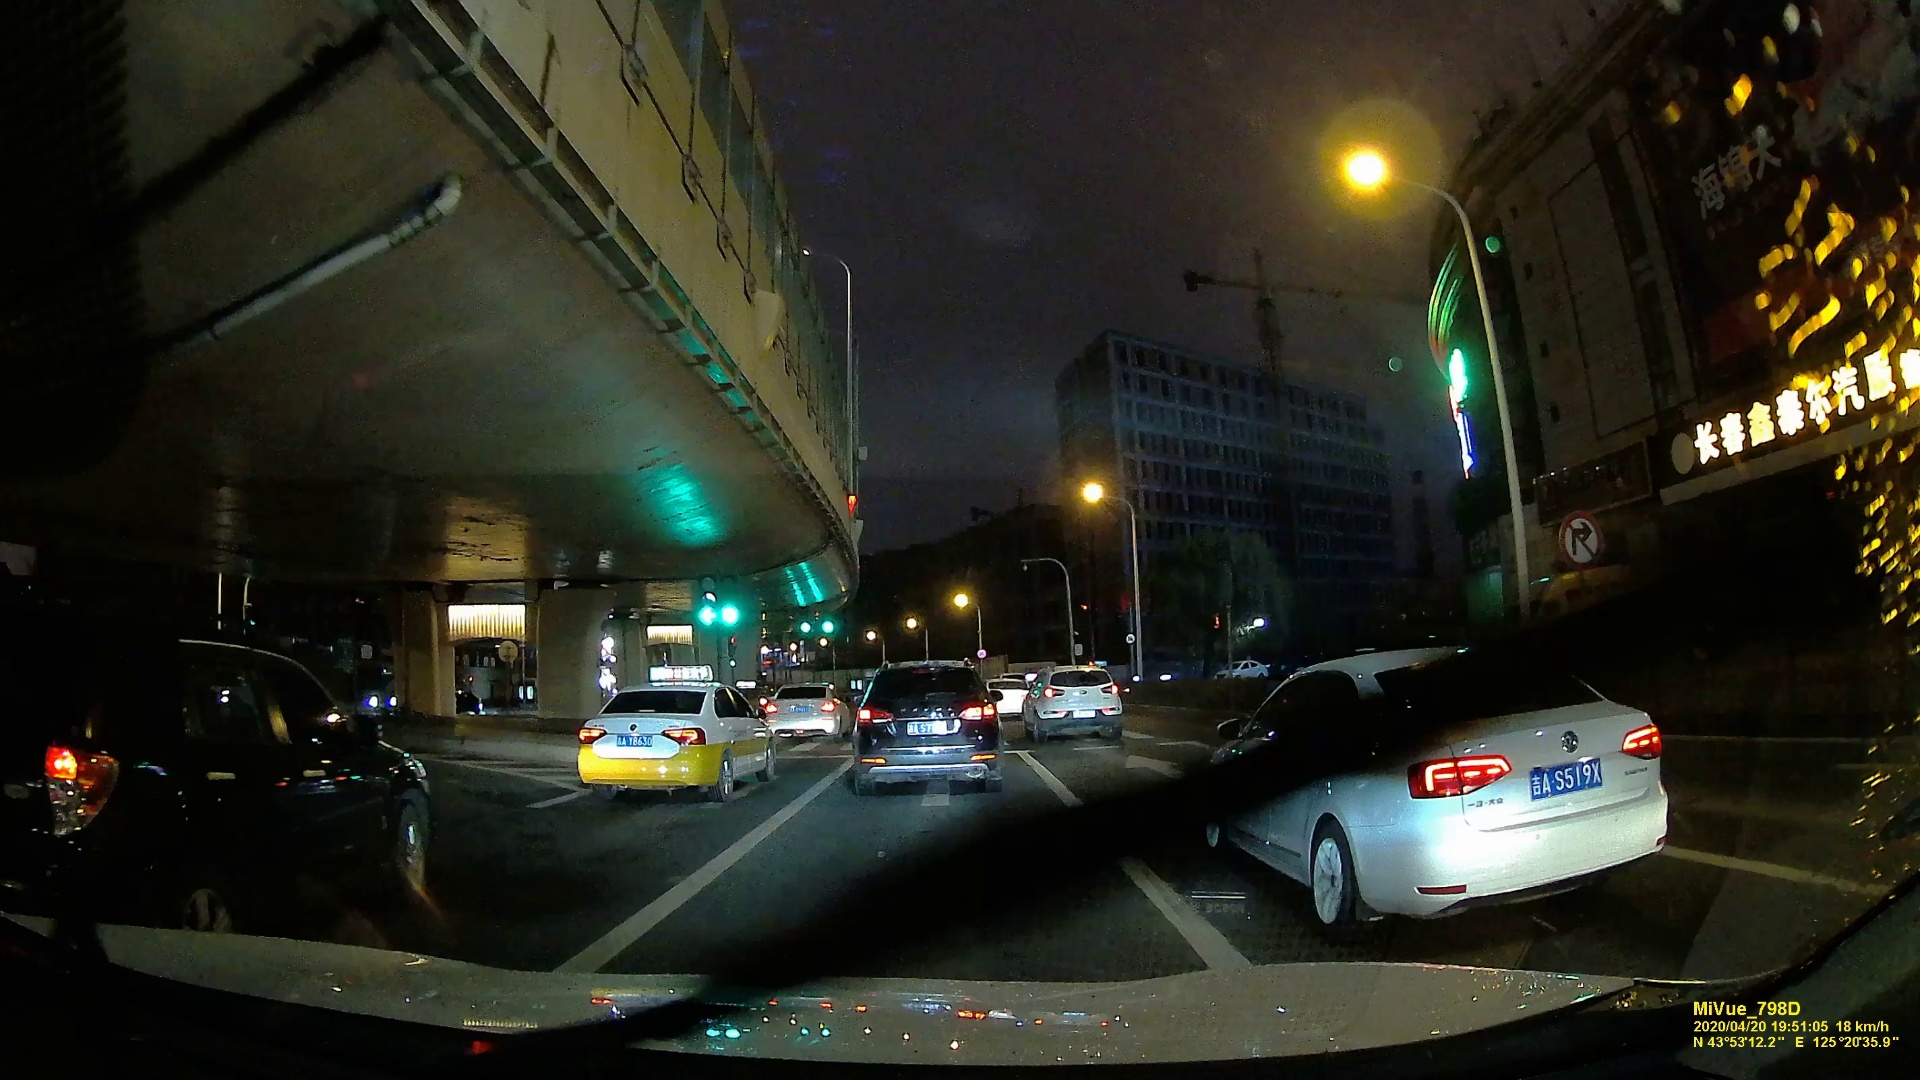traffic_sign: (1553, 512, 1601, 576), (717, 585, 740, 625), (820, 611, 836, 636)
vehicle: (1193, 647, 1669, 916), (3, 628, 425, 928), (578, 684, 777, 799), (848, 659, 1004, 795), (1019, 665, 1127, 741), (765, 683, 853, 742), (1213, 659, 1274, 680)
